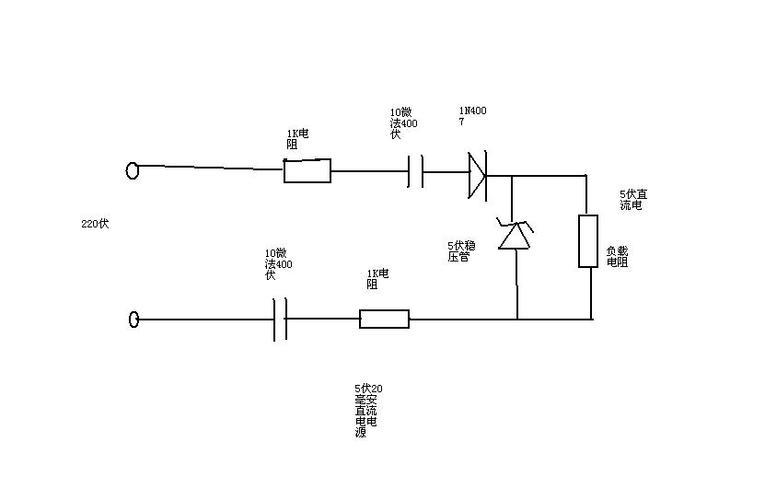cap1: (271, 293, 292, 344), (404, 150, 428, 191)
diode: (492, 209, 541, 255), (464, 145, 491, 207)
res1: (278, 154, 336, 186), (576, 211, 601, 271), (356, 308, 412, 331)
